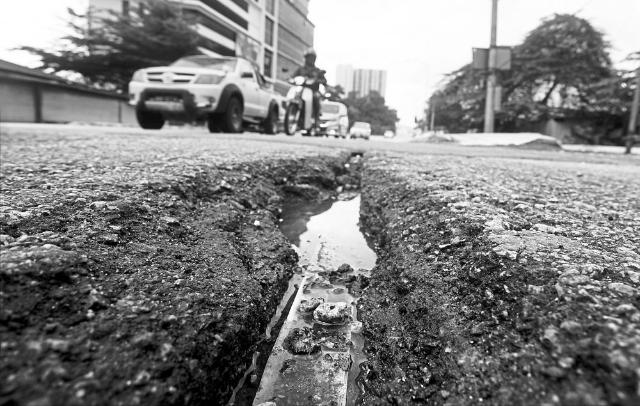Pothole: (248, 150, 386, 406)
